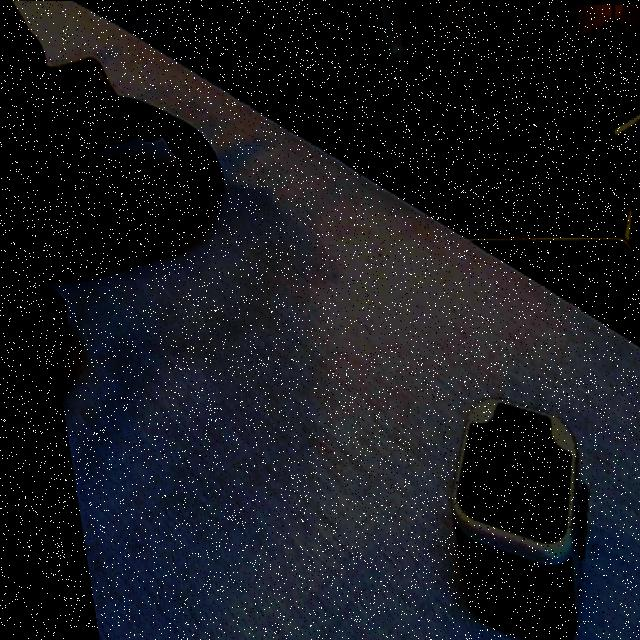adapter: (419, 392, 592, 640)
